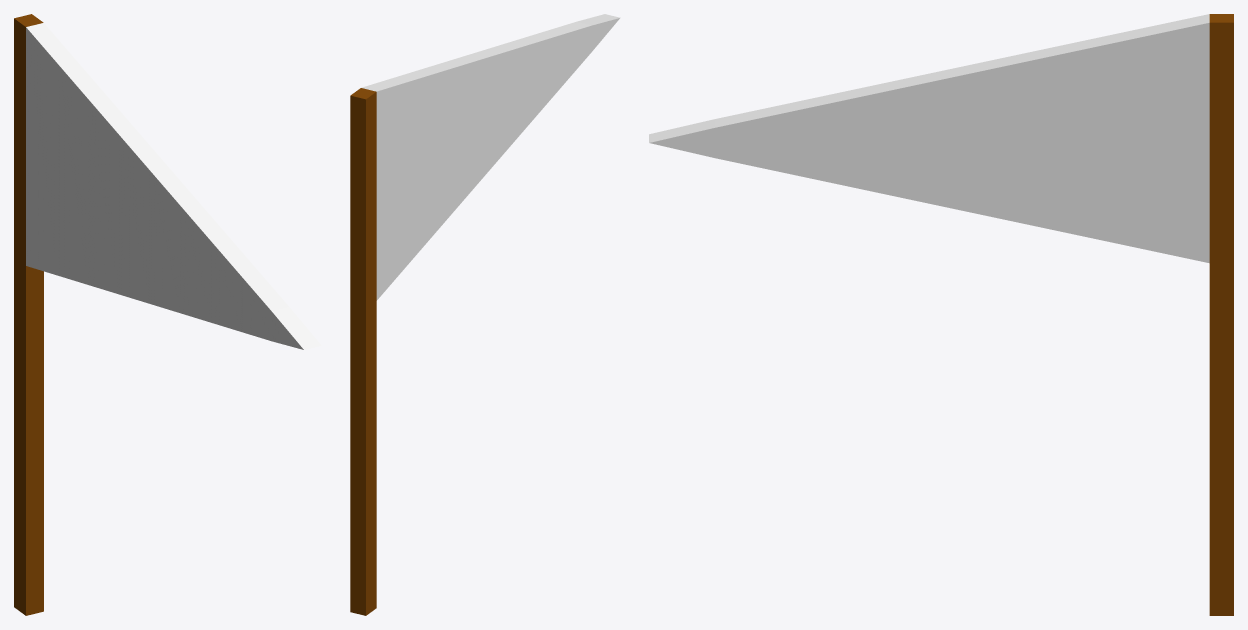
The model's file is Flag05.obj.
3 renders of one model, left to right at view 1: azimuth 30°, elevation 25°; view 2: azimuth 150°, elevation 25°; view 3: azimuth 270°, elevation 25°, orthographic. The views are drawn at different scales.
Visible parts, largest first — view 1: Flag05; view 2: Flag05; view 3: Flag05.
Boxes of the visible parts, x1=… form: Flag05: x1=14, y1=14, x2=321, y2=615; Flag05: x1=350, y1=14, x2=620, y2=615; Flag05: x1=649, y1=14, x2=1233, y2=615.
Size of the model in its own units: 0.1064 by 3.36 by 3.
2 materials, 2 textured.
